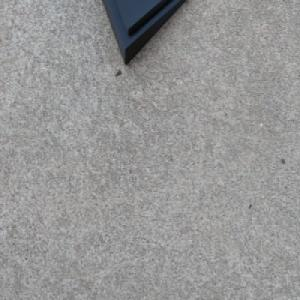PlasticPart: (100, 0, 187, 68)
